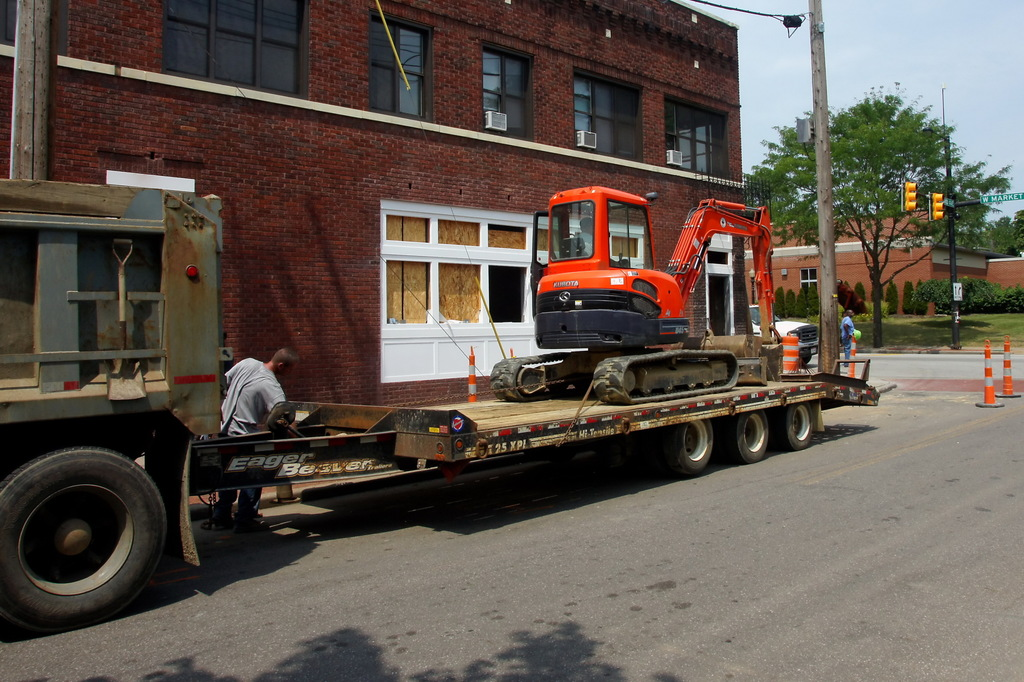Car: (752, 299, 817, 366)
